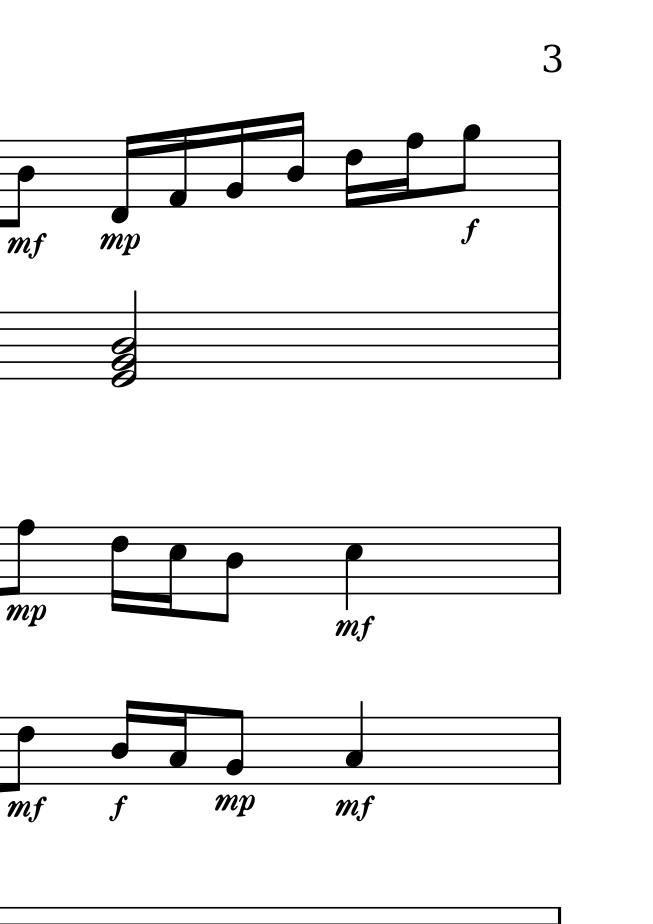16_1: (166, 125, 190, 211)
16_2: (223, 119, 247, 208)
16_3: (167, 702, 189, 787)
16_4: (110, 698, 137, 786), (286, 110, 308, 210)
16_6: (109, 523, 130, 615), (344, 138, 365, 211)
16_8: (395, 132, 424, 208)
3: (542, 42, 564, 74)
4_3: (344, 700, 366, 785)
4_5: (344, 524, 364, 614)
8_-1: (108, 135, 138, 226)
8_2: (224, 707, 245, 785)
8_4: (215, 525, 244, 625), (5, 139, 36, 230)
8_5: (158, 524, 188, 619)
8_6: (7, 715, 36, 794)
8_8: (4, 516, 35, 597)
8_9: (451, 125, 481, 210)
Single_barline: (551, 527, 567, 593), (551, 141, 567, 206), (551, 718, 567, 783), (551, 313, 566, 378), (551, 907, 566, 924)
f: (107, 794, 131, 822), (459, 218, 482, 245)
mf: (334, 610, 377, 647), (334, 791, 377, 827), (7, 795, 49, 828), (8, 230, 49, 263)
mp: (211, 791, 259, 823), (97, 228, 144, 259), (5, 601, 50, 631)
